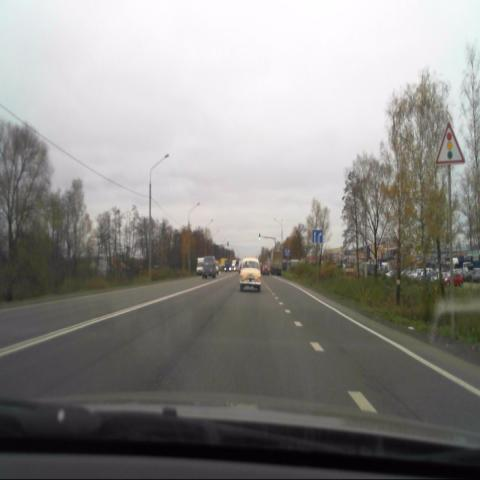1_8: (435, 120, 467, 166)
